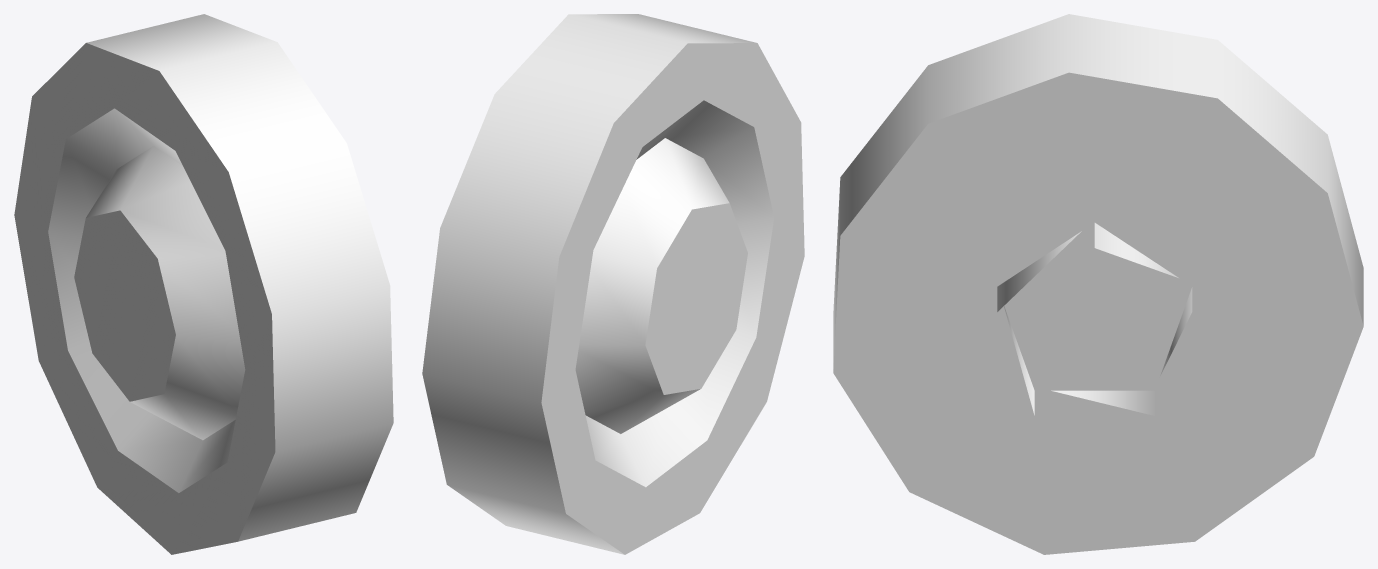
3 views of the same model, side by side, from view 1: azimuth 30°, elevation 25°; view 2: azimuth 150°, elevation 25°; view 3: azimuth 270°, elevation 25° (orthographic).
Bounding box in the file's own units: 0.2784 × 0.66 × 0.6576.
Materials: 1 (1 with a texture image).
